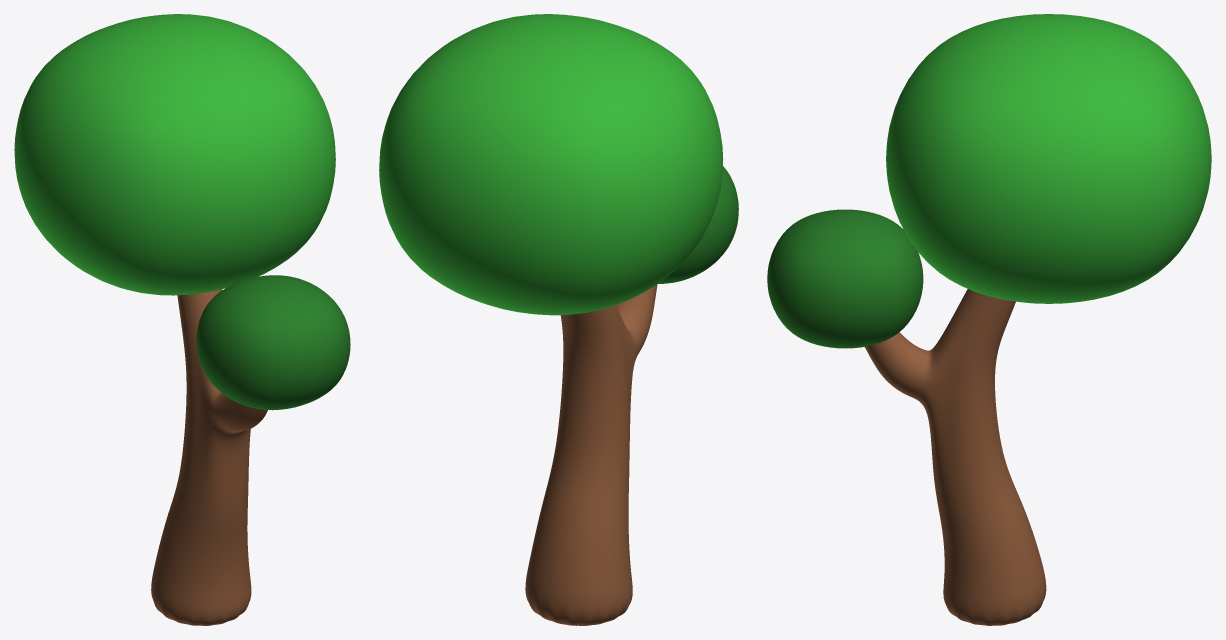
Rendered from PdV_Model_Tree_01.fbx.
3 views of the same model, side by side, from view 1: azimuth 30°, elevation 25°; view 2: azimuth 150°, elevation 25°; view 3: azimuth 270°, elevation 25° (orthographic). The views are drawn at different scales.
Visible parts, largest first — view 1: Cylinder.007; view 2: Cylinder.007; view 3: Cylinder.007.
Part boxes in pixels (x1,y1,x2,y2): Cylinder.007: (14, 14, 350, 625); Cylinder.007: (379, 14, 738, 625); Cylinder.007: (767, 14, 1211, 625).
Size of the model in its own units: 759 by 1036 by 1495.
